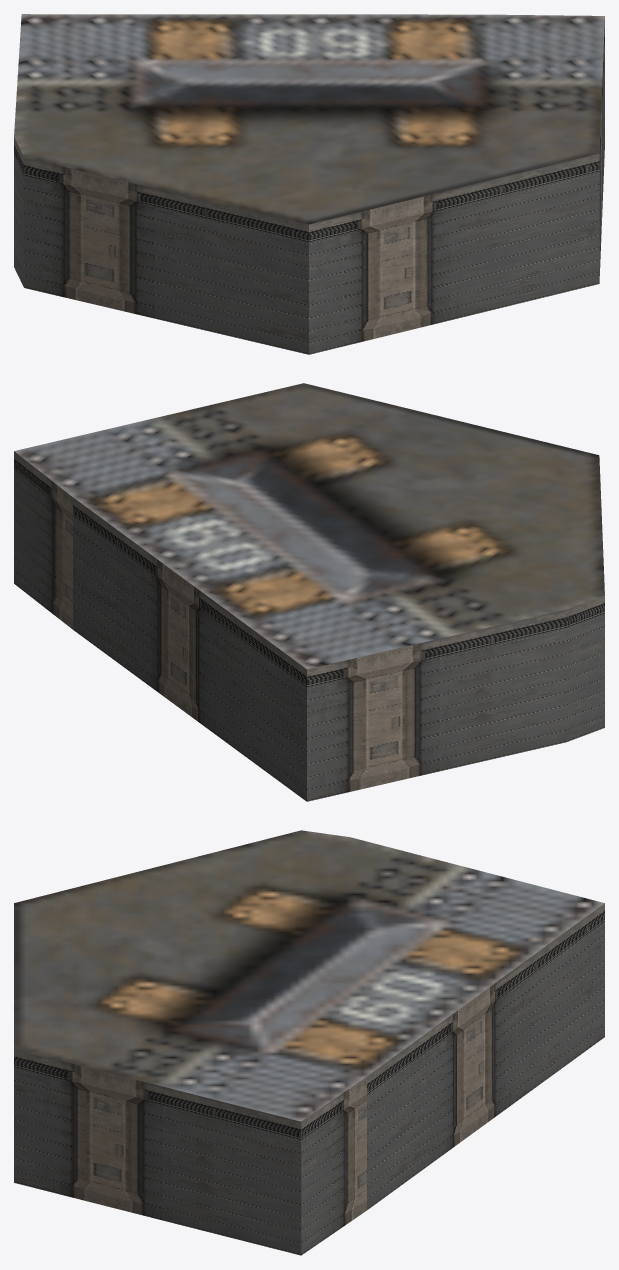
File: hangar_hard_a_60.glb
3 views of the same model, one above another, from view 1: azimuth 30°, elevation 25°; view 2: azimuth 150°, elevation 25°; view 3: azimuth 270°, elevation 25° (orthographic). The views are drawn at different scales.
Visible parts, largest first — view 1: buildings/saxarba/hangar_hard/hangar_hard_a_60; view 2: buildings/saxarba/hangar_hard/hangar_hard_a_60; view 3: buildings/saxarba/hangar_hard/hangar_hard_a_60.
Part boxes in pixels (<box>): buildings/saxarba/hangar_hard/hangar_hard_a_60: <box>14,14,604,354</box>; buildings/saxarba/hangar_hard/hangar_hard_a_60: <box>14,383,604,801</box>; buildings/saxarba/hangar_hard/hangar_hard_a_60: <box>14,830,604,1255</box>.
Bounding box in the file's own units: 84 × 18 × 72.
